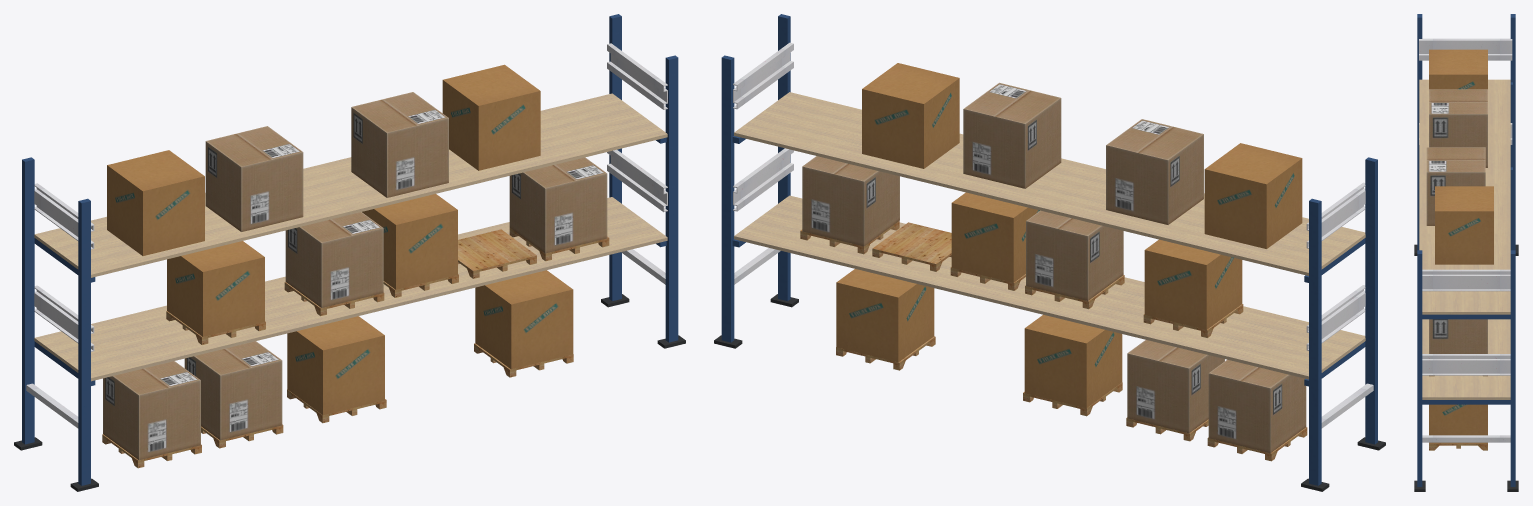
The model's file is storage-transformed.glb.
3 renders of one model, left to right at view 1: azimuth 30°, elevation 25°; view 2: azimuth 150°, elevation 25°; view 3: azimuth 270°, elevation 25°, orthographic. The views are drawn at different scales.
Parts seen in each view (by area): view 1: BigShelves04, Cardboard_box01, Cardboard_box05, BigShelvesWoodBox; view 2: BigShelves04, Cardboard_box01, Cardboard_box05, BigShelvesWoodBox; view 3: BigShelves04, Cardboard_box05, Cardboard_box01, BigShelvesWoodBox.
Boxes of the visible parts, left/top/right/bottom form: BigShelves04: left=14, top=14, right=685, bottom=491; Cardboard_box01: left=103, top=92, right=607, bottom=460; Cardboard_box05: left=107, top=64, right=573, bottom=415; BigShelvesWoodBox: left=102, top=228, right=609, bottom=468; BigShelves04: left=714, top=14, right=1385, bottom=491; Cardboard_box01: left=802, top=82, right=1306, bottom=453; Cardboard_box05: left=836, top=63, right=1302, bottom=408; BigShelvesWoodBox: left=800, top=221, right=1307, bottom=461; BigShelves04: left=1414, top=14, right=1518, bottom=491; Cardboard_box05: left=1429, top=49, right=1493, bottom=443; Cardboard_box01: left=1426, top=89, right=1487, bottom=353; BigShelvesWoodBox: left=1429, top=375, right=1487, bottom=450.
Size of the model in its own units: 10 by 4.49 by 1.81.
Materials: 7 (7 with a texture image).
